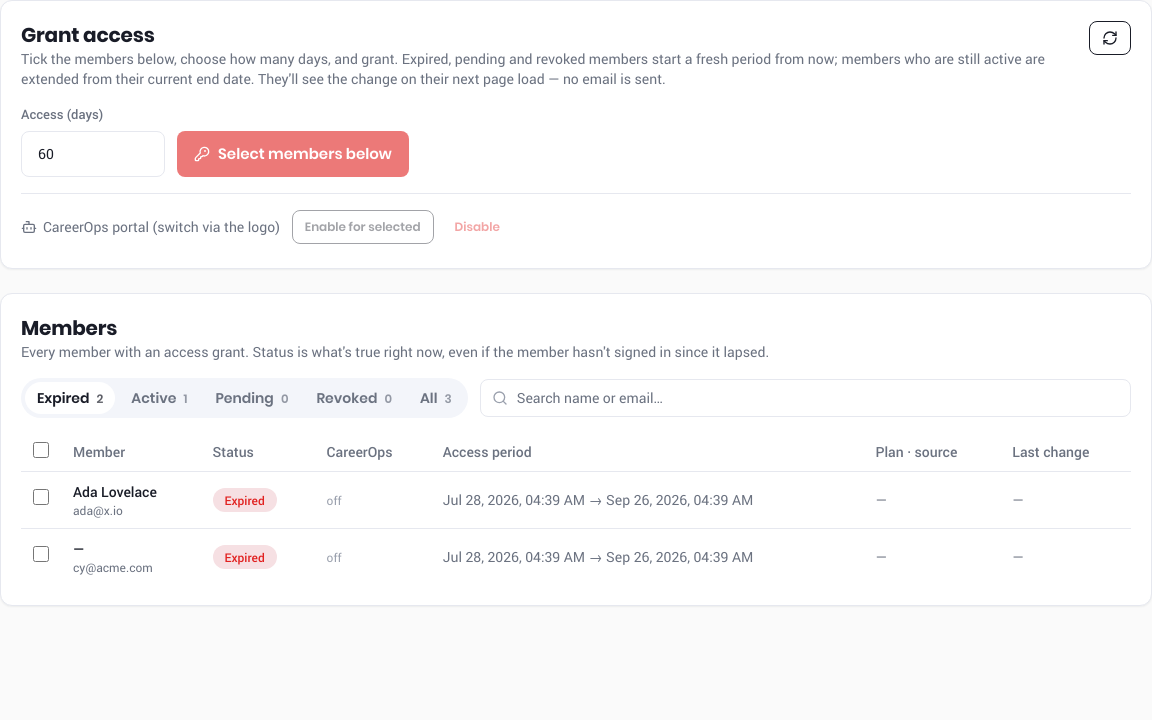
TOFU → Access renewals › grants access to one member and shows the new end date
Expected: the text "Ada Lovelace" is shown, [73,482,157,500]
Click the checkbox named "Select Ada Lovelace": click(41, 497) [33,489,49,505]
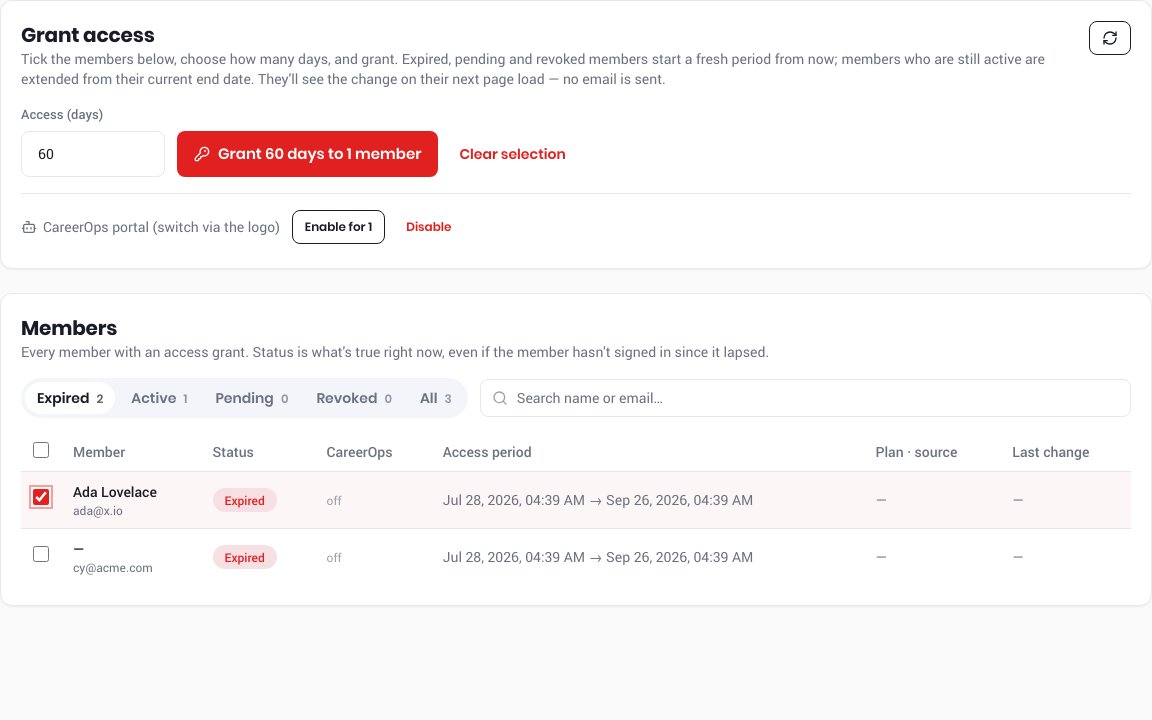
# NumberField clamps to min on every keystroke, so set the value in one change
Replace the text in the number field labelled "Access (days)" with "30": (93, 154) [21,130,165,176]
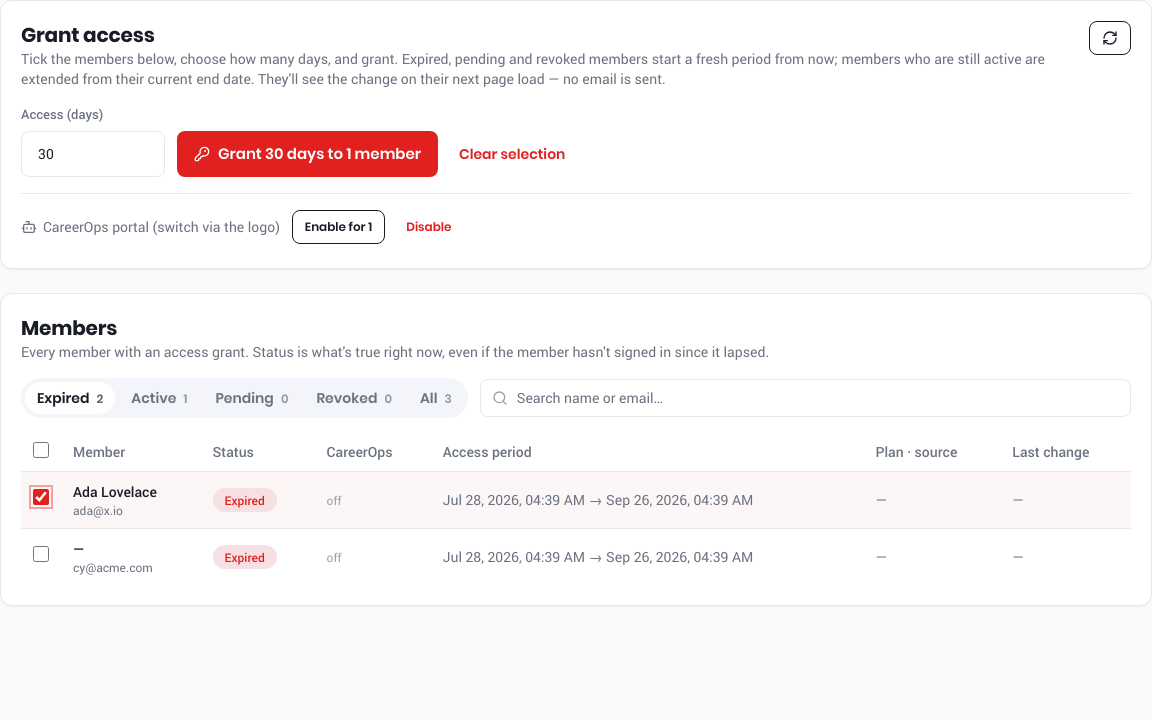
Click the button "Grant 30 days to 1 member": click(308, 154) [177,130,438,176]
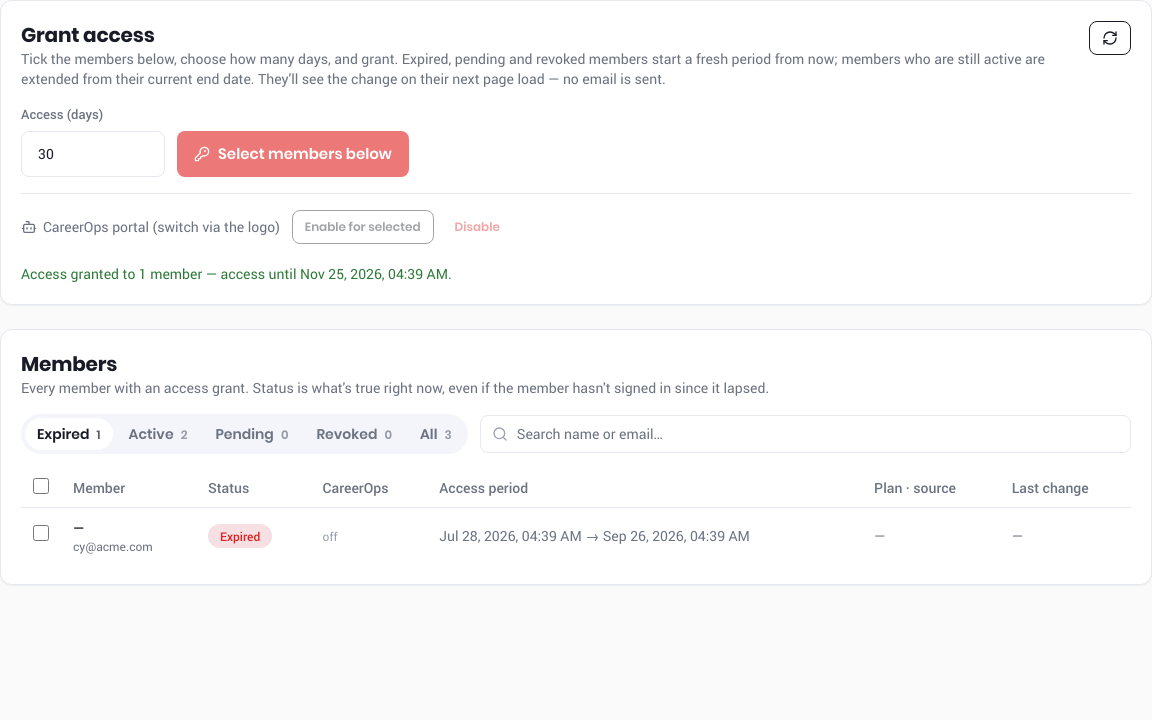
Result: the message shows "Access granted to 1 member — access until" at [21,264,452,282]
Result: the text "Ada Lovelace" is gone
Result: the tab "Expired 1" is shown at [25,418,112,450]
